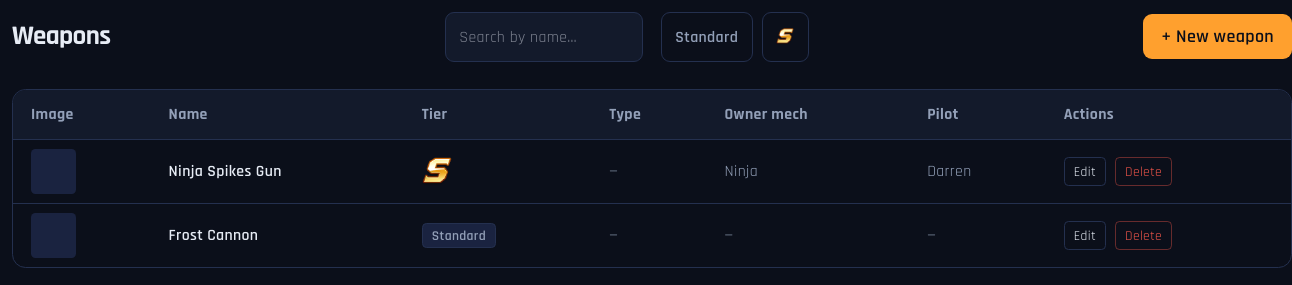
Test: AdminWeaponsPage › filters the list by name search
This screenshot has width=1292, height=285.
Expected: the link "Ninja Spikes Gun" is shown, [169,161,282,181]
Expected: the link "Frost Cannon" is shown, [169,225,258,245]
Type "frost" into the search field labelled "Search by name" at (544, 37), box [445,12,643,62]
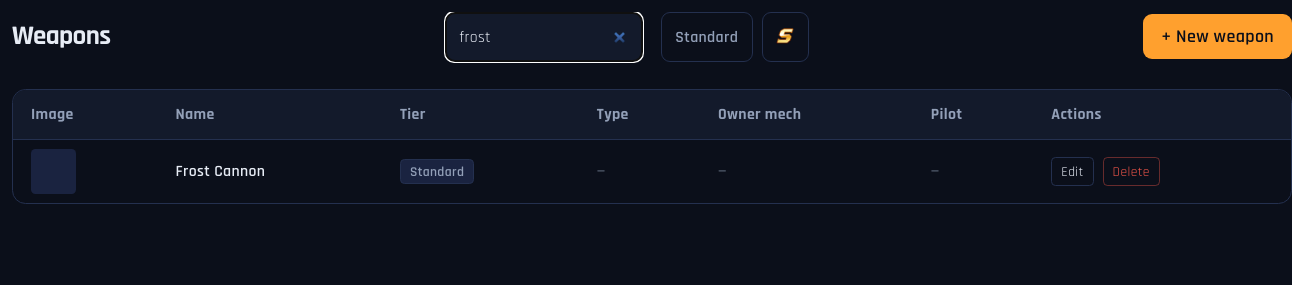
Expected: the link "Frost Cannon" is shown, [176,161,265,181]
Now the link "Ninja Spikes Gun" is gone
